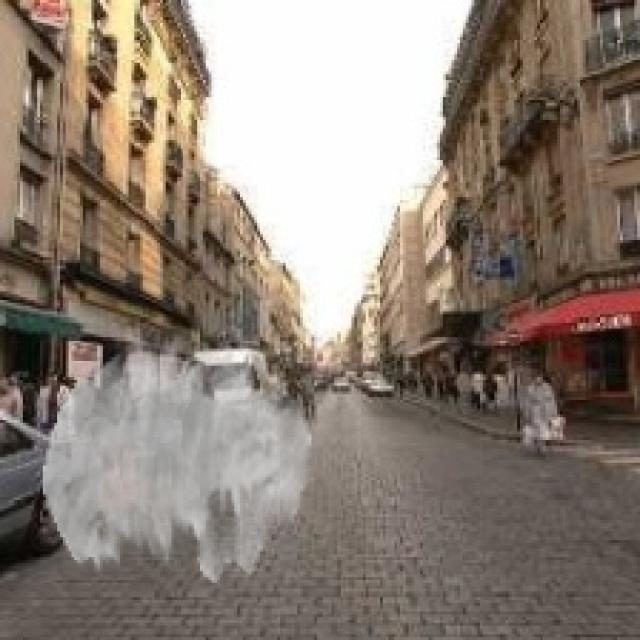smoke: (43, 331, 311, 583)
